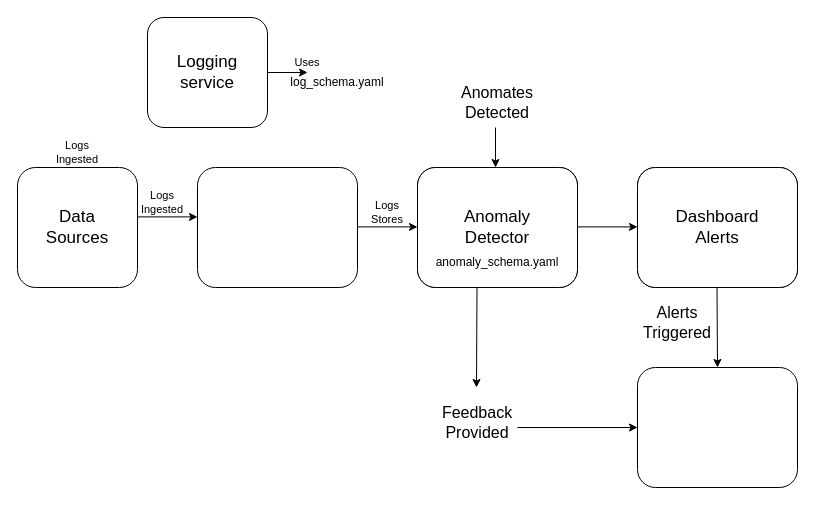
Some shapes in this 815 by 505 pixel diagram are drawn without their labels. The centre of each missing label's shape, as x and y in pixels:
"Feedback to Logging Service" goes at (x=717, y=427).
"Storage (DB/S3)" goes at (x=277, y=227).
